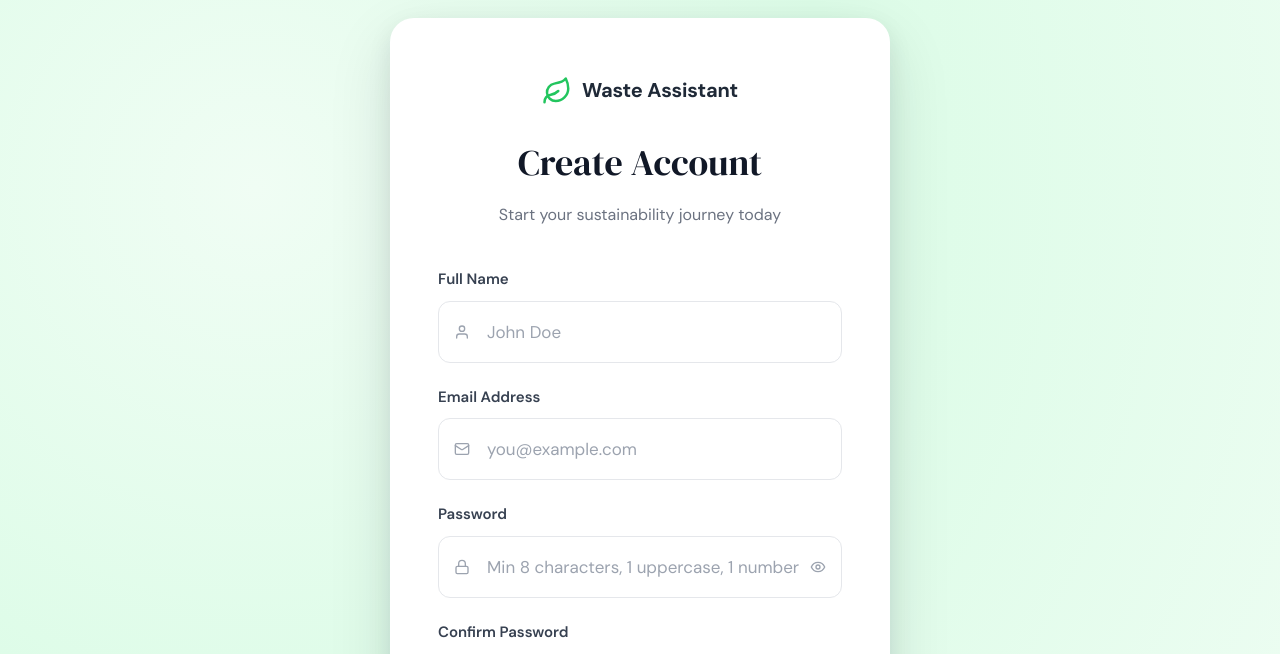
Scenario: RegisterPage › shows success message when Create Account is clicked with valid details
This screenshot has width=1280, height=654.
Type "Sita Rai" into the field with placeholder "John Doe". click: (640, 332)
box: x1=438 y1=300 x2=842 y2=362
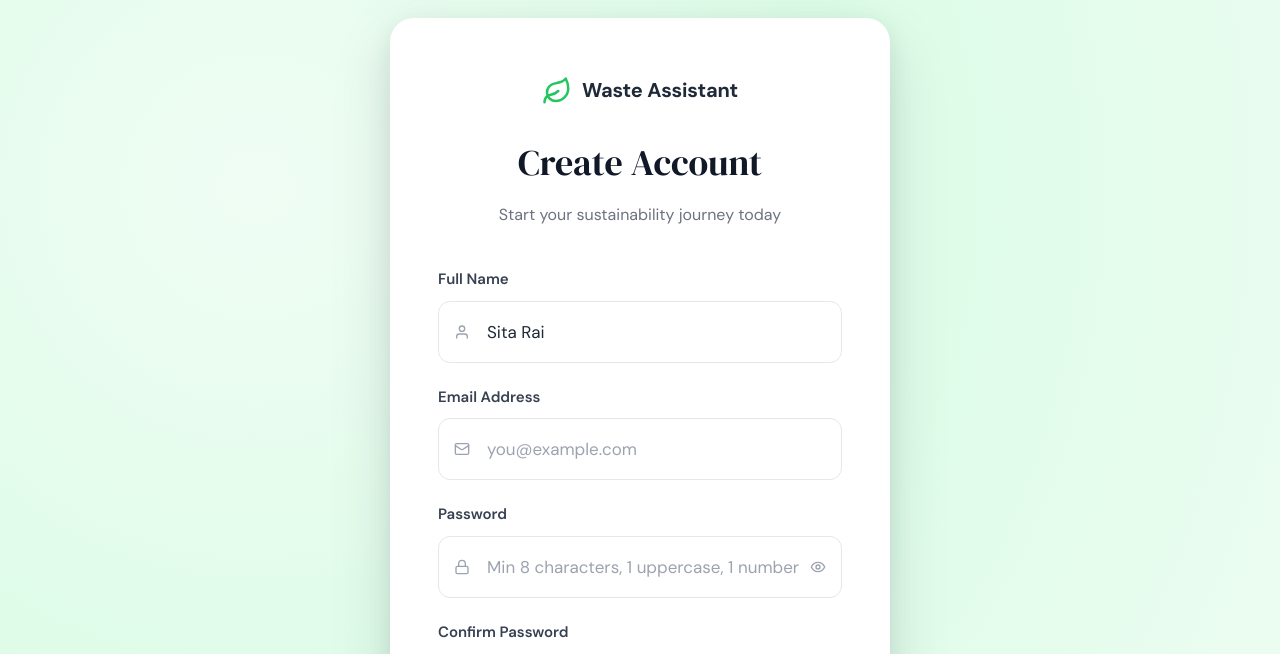
Type "sita@gmail.com" into the field with placeholder "you@example.com". click: (640, 449)
box: x1=438 y1=418 x2=842 y2=480
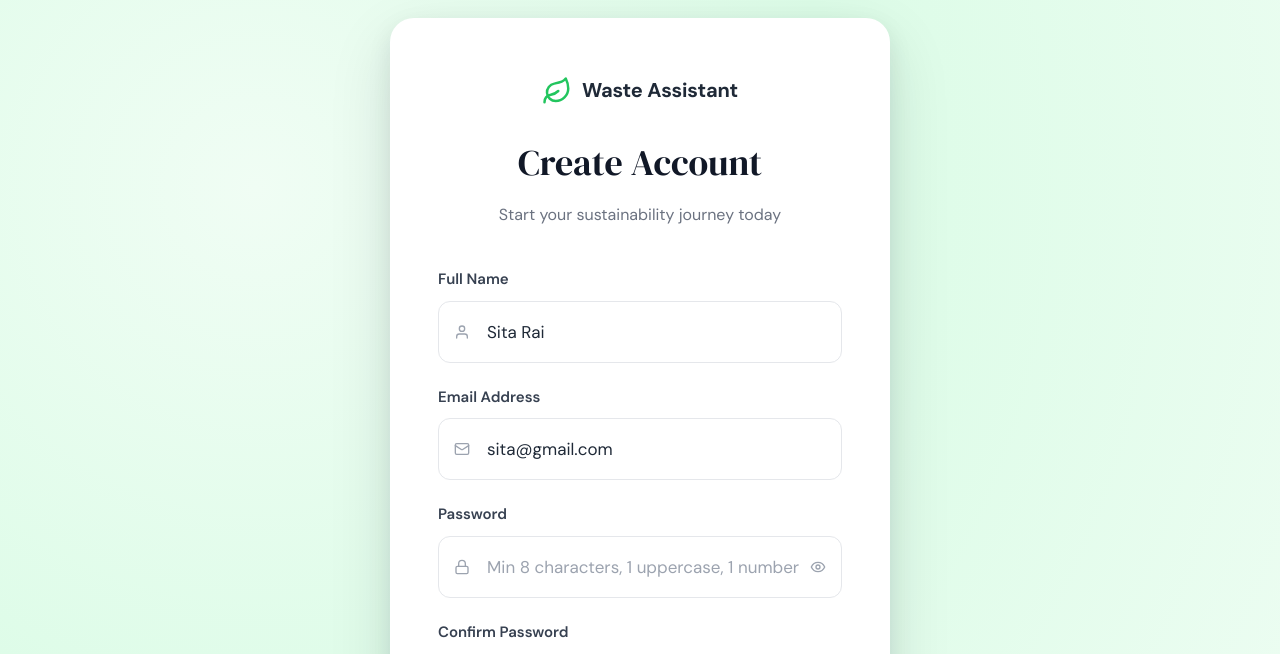
Type "Password123" into the password field with placeholder "Min 8 characters, 1 uppercase, 1 number". click: (640, 567)
box: x1=438 y1=536 x2=842 y2=598
(page scrolled)
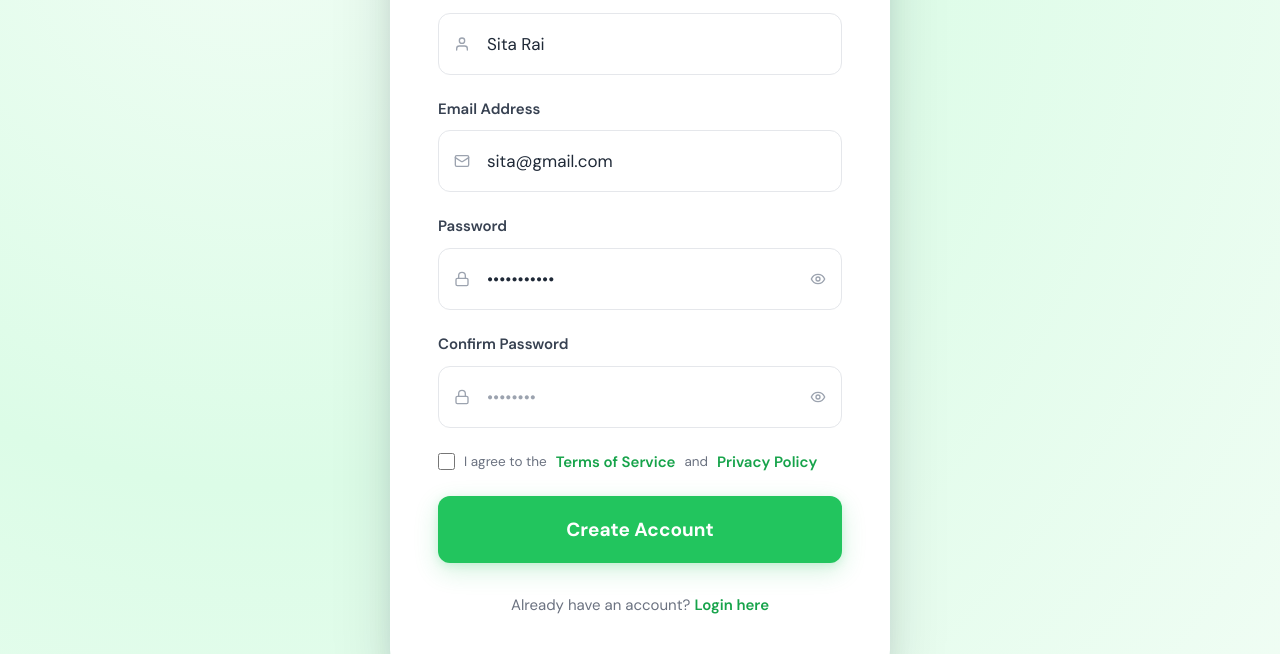
Type "Password123" into the password field with placeholder "••••••••". click: (640, 397)
box: x1=438 y1=366 x2=842 y2=428
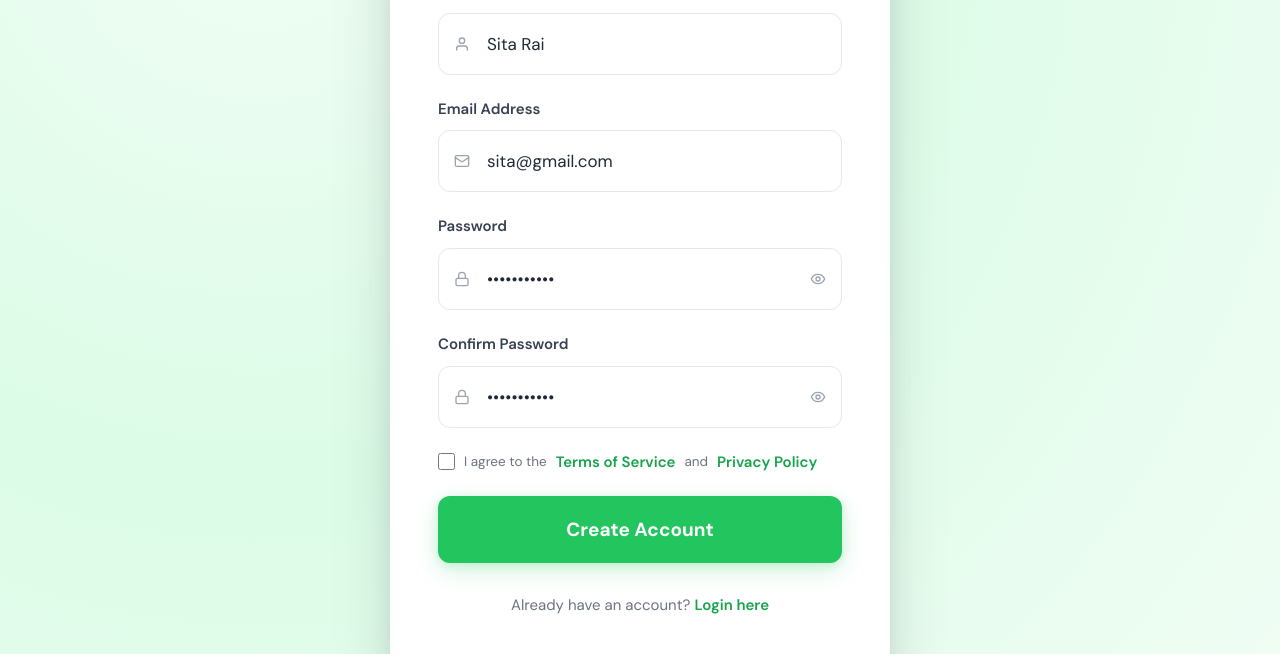
Click the checkbox. click: click(446, 462)
box: x1=438 y1=454 x2=455 y2=470
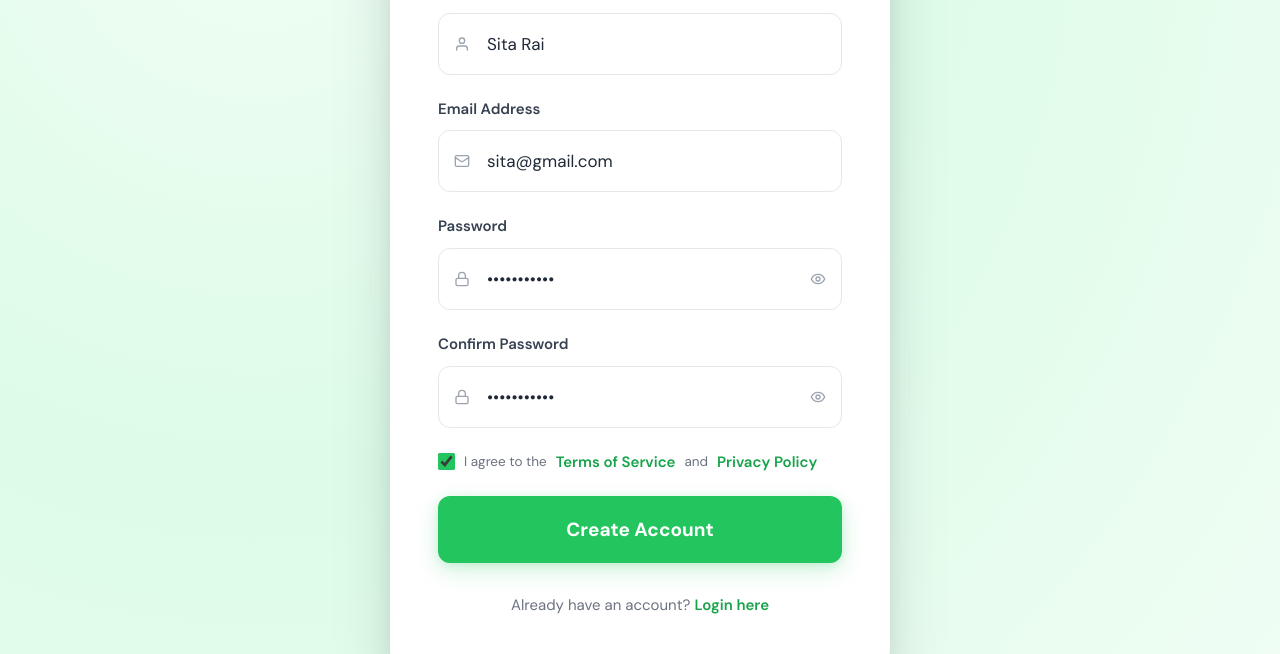
Click the button "Create Account". click: click(640, 530)
box: x1=438 y1=496 x2=842 y2=563
(page scrolled)
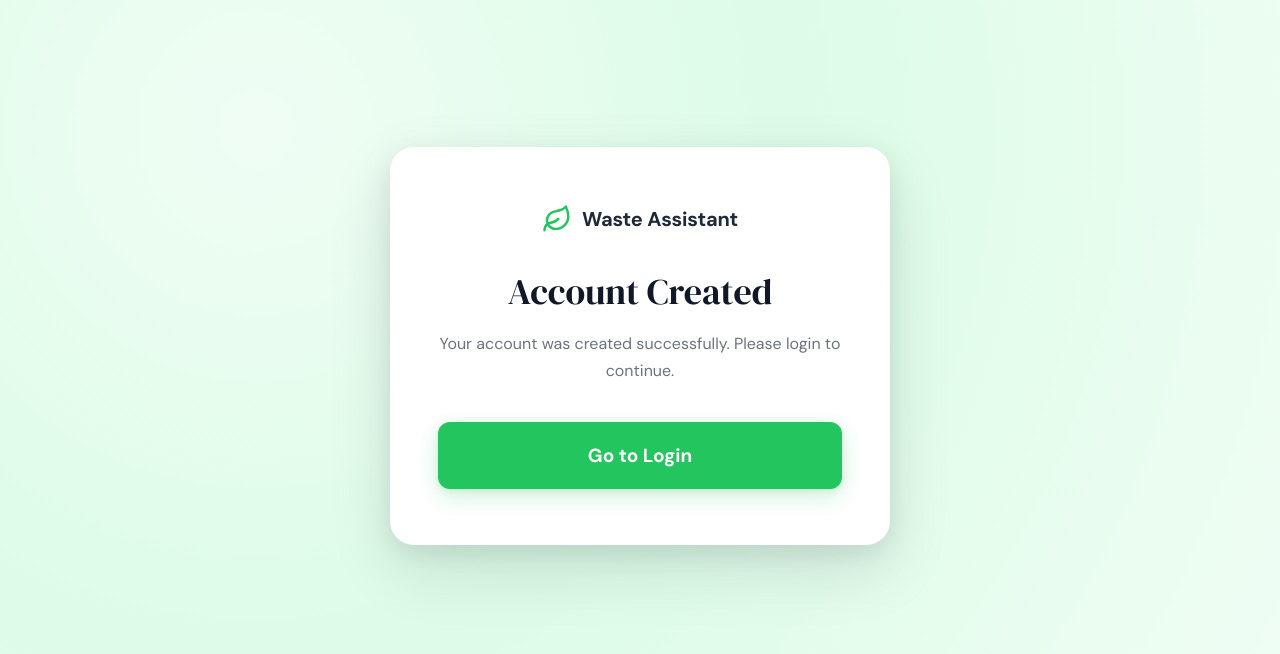
Check: the heading "Account Created" is shown, box x1=508 y1=267 x2=772 y2=316
Check: the button "Go to Login" is shown, box x1=438 y1=422 x2=842 y2=489
